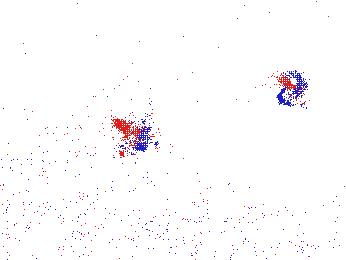redtail glassfish: (121, 108, 168, 154), (277, 65, 313, 118)
